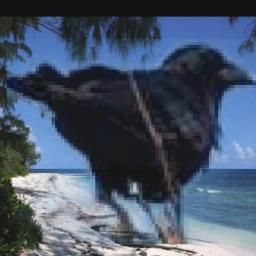Crow: (8, 39, 256, 244)
